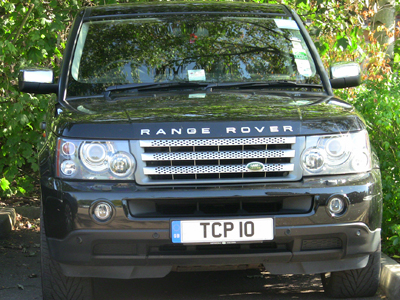licencePlate: (170, 219, 275, 243)
